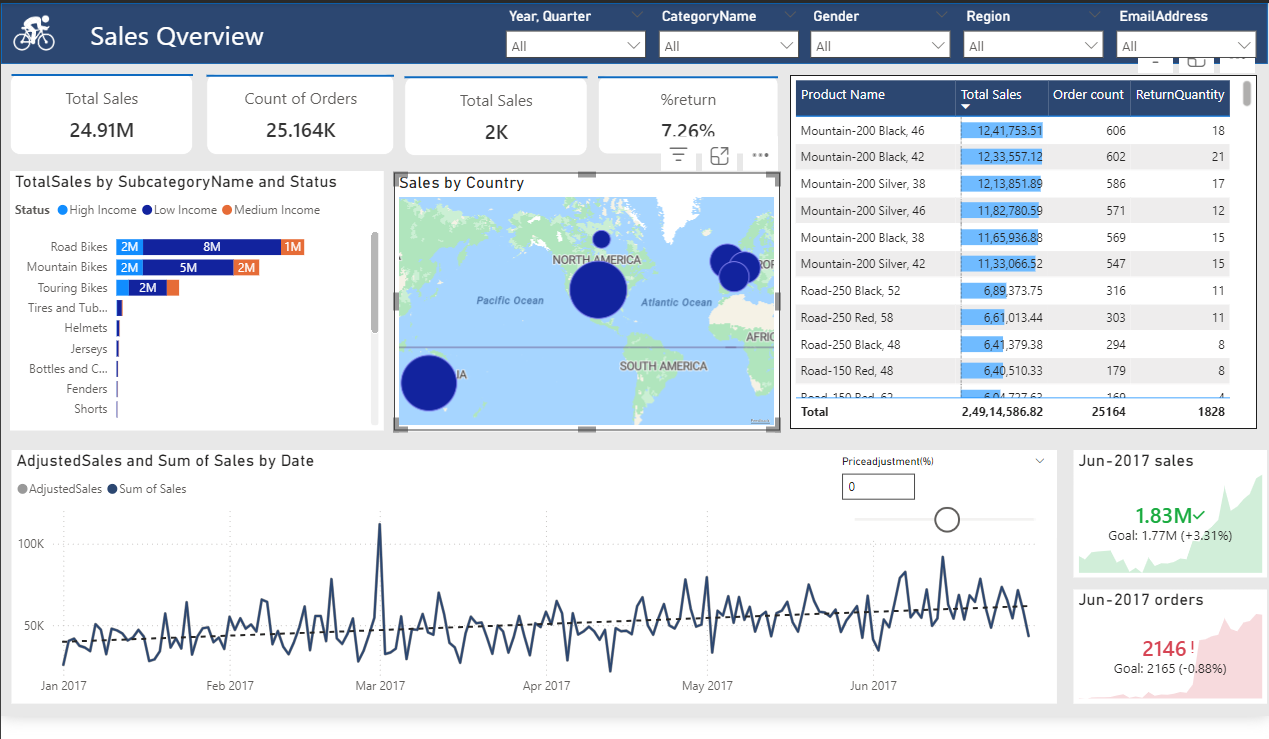

What the dashboard file says about the page in this screenshot:
{"tool":"powerbi","page":{"name":"Dashbord","canvas":[1280,720],"ordinal":0},"visuals":[{"type":"shape","box":[0,0,1278.7,61.6],"z":0},{"type":"slicer","fields":{"Values":["Product Categories.CategoryName"]},"box":[653.8,0,161.5,70.8],"z":0,"group":"g1"},{"type":"slicer","fields":{"Values":["Territories.Region"]},"box":[961.5,0,161.5,72.3],"z":1000,"group":"g1"},{"type":"cardVisual","title":"Total sales","fields":{"Data":["Measure Table.TotalSales"]},"box":[9.1,71.2,184.7,81.8],"z":1000},{"type":"slicer","fields":{"Values":["Customers Table.Gender"]},"box":[807.7,0,161.5,72.3],"z":2000,"group":"g1"},{"type":"barChart","fields":{"Category":["Product Subcategories.SubcategoryName"],"Y":["Measure Table.TotalSales"],"Series":["Customers Table.Status"]},"box":[9.1,169.6,377,262],"z":2000},{"type":"lineChart","fields":{"Category":["DateTable.Date"],"Y":["Measure Table.AdjustedSales","Sum(FinaL Sales.Sales)"]},"box":[10.6,451.2,1055.4,255.9],"z":2500},{"type":"slicer","fields":{"Values":["Customers Table.EmailAddress"]},"box":[1116.9,0,161.5,70.8],"z":3000,"group":"g1"},{"type":"cardVisual","title":"order count","fields":{"Data":["Count(FinaL Sales.OrderNumber)"]},"box":[207.4,71.2,189.3,81.8],"z":3000},{"type":"slicer","fields":{"Values":["DateTable.monthyear.Variation.Date Hierarchy.Year","DateTable.monthyear.Variation.Date Hierarchy.Quarter"]},"box":[500,0,161.5,80],"z":4000,"group":"g1"},{"type":"image","title":"Logo","box":[0,0,66.6,62.1],"z":5000},{"type":"cardVisual","title":"total no of sales","fields":{"Data":["Sum(Returns.ReturnQuantity)"]},"box":[407.3,74.2,184.7,80.3],"z":6000},{"type":"cardVisual","title":"%return card","fields":{"Data":["Measure Table.%return"]},"box":[602.7,72.7,181.7,80.3],"z":7000},{"type":"kpi","fields":{"Indicator":["Measure Table.TotalSales"],"TrendLine":["DateTable.monthyear"],"Goal":["Measure Table.previousmonthsales"]},"box":[1083.3,451.5,195.5,128.8],"z":8000},{"type":"shape","title":"line","box":[10.6,13.6,183.2,118.1],"z":9000},{"type":"kpi","fields":{"TrendLine":["DateTable.monthyear"],"Goal":["Measure Table.previousmonthorders"],"Indicator":["Count(FinaL Sales.OrderNumber)"]},"box":[1083.3,592.4,195.5,115.2],"z":10000},{"type":"tableEx","fields":{"Values":["Products.ProductName","Measure Table.TotalSales","FinaL Sales.OrderNumber","Sum(Returns.ReturnQuantity)"]},"box":[796.5,72.7,470.9,357.4],"z":11000},{"type":"shape","title":"line","box":[207.4,15.1,189.3,116.6],"z":12000},{"type":"shape","title":"line","box":[407.3,0,184.7,149.9],"z":13000},{"type":"shape","title":"line","box":[602.7,0,181.7,149.9],"z":14000},{"type":"map","fields":{"Size":["Measure Table.TotalSales"],"Category":["Territories.Country"]},"box":[396.7,171.1,389.2,260.4],"z":15000},{"type":"group","id":"g1","title":"slicers","box":[500,0,778.5,80],"z":17000},{"type":"slicer","fields":{"Values":["Priceadjustment(%).Priceadjustment(%)"]},"box":[835.8,451.2,230.2,87.8],"z":17501}]}

Visuals, with their boxes on the page's 1280x720 design canvas (x1, y1, x2, y2). These are canvas units, not pixel positions in the 1269x739 screenshot, which may show the page scaled, cropped or inside an application window:
shape: box=[0, 0, 1279, 62]
slicer - Product Categories.CategoryName: box=[654, 0, 815, 71]
slicer - Territories.Region: box=[962, 0, 1123, 72]
"Total sales" cardVisual: box=[9, 71, 194, 153]
slicer - Customers Table.Gender: box=[808, 0, 969, 72]
barChart - Product Subcategories.SubcategoryName x Measure Table.TotalSales: box=[9, 170, 386, 432]
lineChart - DateTable.Date x Measure Table.AdjustedSales: box=[11, 451, 1066, 707]
slicer - Customers Table.EmailAddress: box=[1117, 0, 1278, 71]
"order count" cardVisual: box=[207, 71, 397, 153]
slicer - DateTable.monthyear.Variation.Date Hierarchy.Year x DateTable.monthyear.Variation.Date Hierarchy.Quarter: box=[500, 0, 662, 80]
"Logo" image: box=[0, 0, 67, 62]
"total no of sales" cardVisual: box=[407, 74, 592, 154]
"%return card" cardVisual: box=[603, 73, 784, 153]
kpi - Measure Table.TotalSales x DateTable.monthyear: box=[1083, 452, 1279, 580]
"line" shape: box=[11, 14, 194, 132]
kpi - DateTable.monthyear x Measure Table.previousmonthorders: box=[1083, 592, 1279, 708]
tableEx - Products.ProductName x Measure Table.TotalSales: box=[796, 73, 1267, 430]
"line" shape: box=[207, 15, 397, 132]
"line" shape: box=[407, 0, 592, 150]
"line" shape: box=[603, 0, 784, 150]
map - Measure Table.TotalSales x Territories.Country: box=[397, 171, 786, 432]
"slicers" group: box=[500, 0, 1278, 80]
slicer - Priceadjustment(%).Priceadjustment(%): box=[836, 451, 1066, 539]
